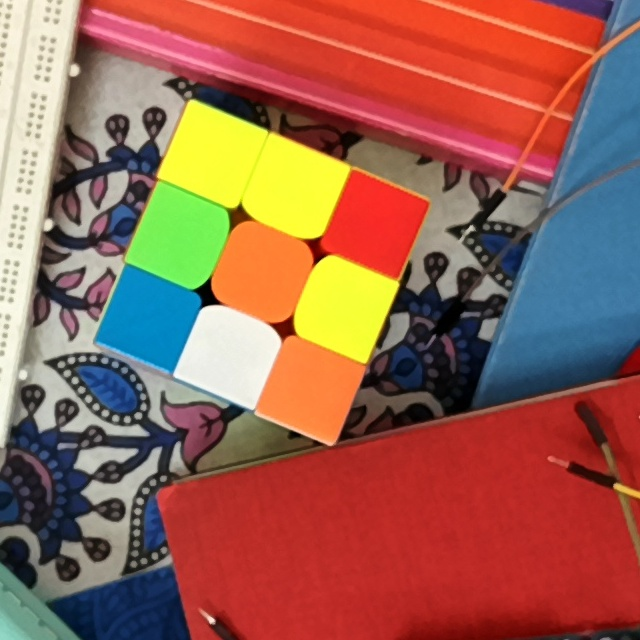tile: (229, 237, 297, 306), (260, 160, 324, 222), (194, 326, 259, 387), (279, 359, 345, 419), (117, 289, 181, 349), (346, 194, 409, 253), (314, 274, 373, 336), (150, 206, 212, 265), (182, 125, 242, 185)
